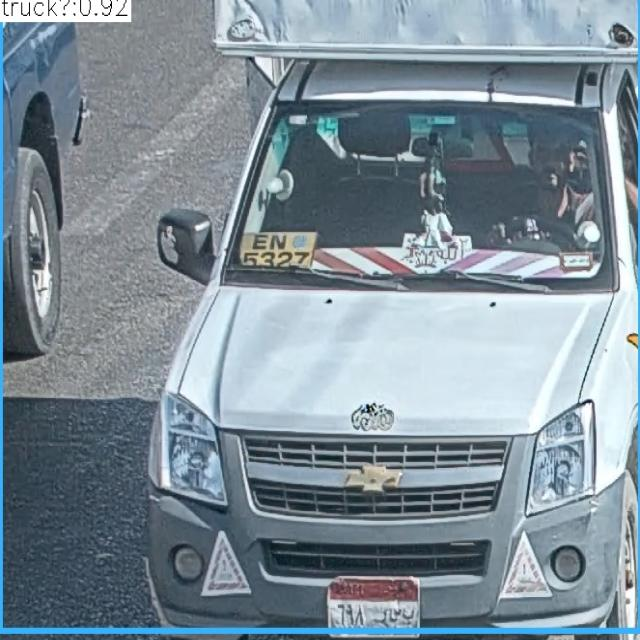windshield: (229, 106, 611, 286)
